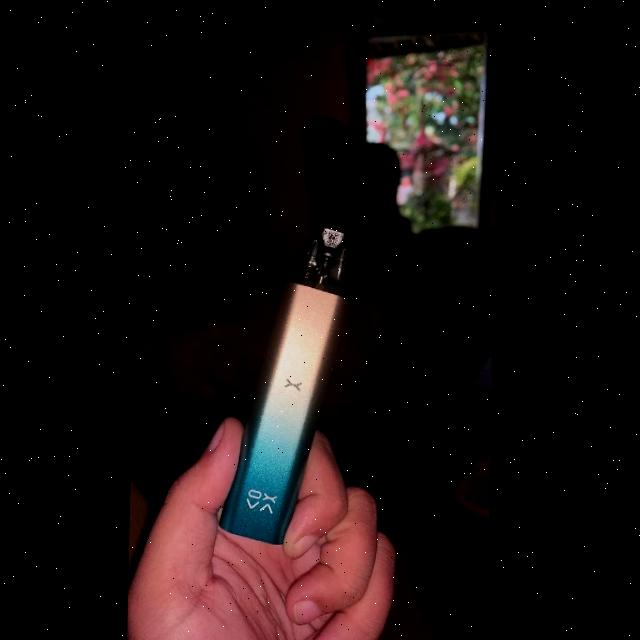vape: (223, 214, 358, 541)
